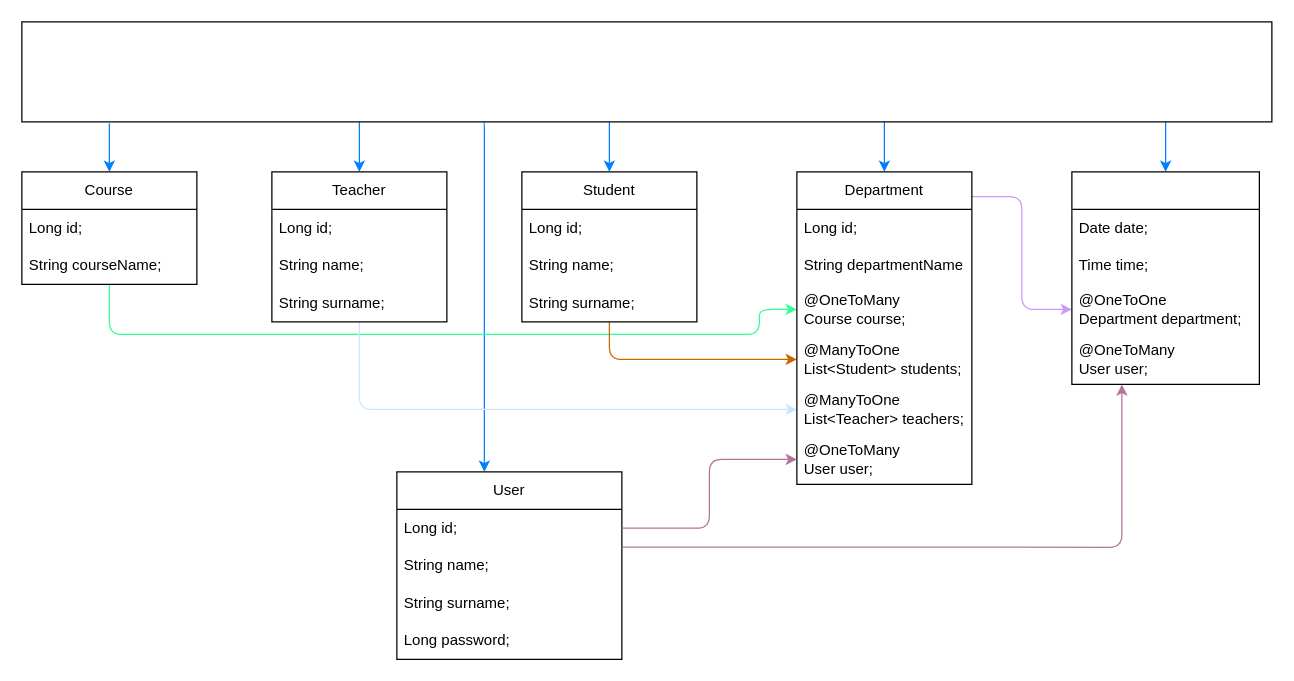
Some shapes in this 1294 by 681 pixel diagram are drawn without their labels. Each missing label, with the box of its shape:
Domain: (21, 21, 1272, 122)
Timetable: (1071, 171, 1259, 384)
